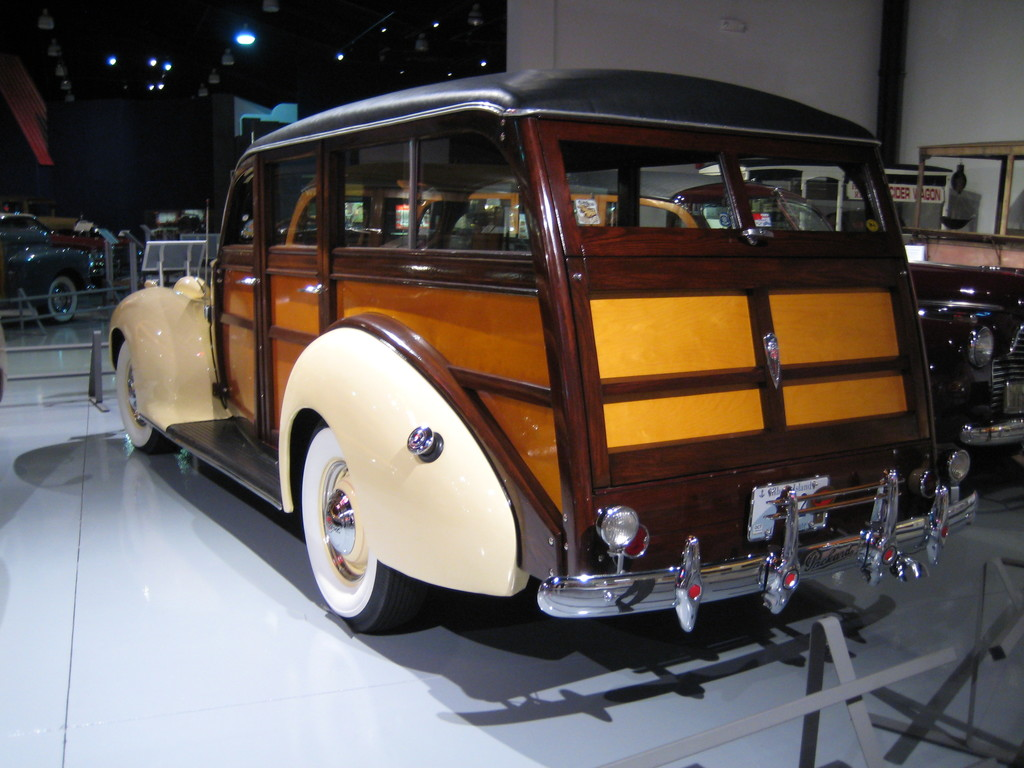Car: (108, 61, 977, 636), (656, 179, 1023, 488), (902, 136, 1023, 274), (0, 209, 95, 325), (49, 218, 127, 283)
